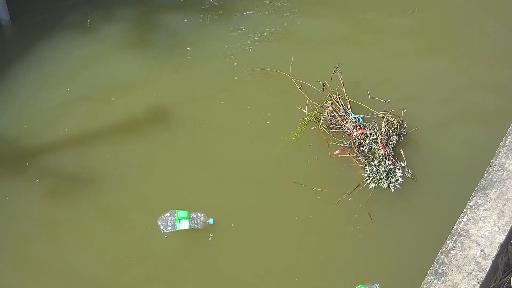plastic: (149, 202, 213, 234), (348, 277, 387, 288)
twig: (267, 51, 451, 215)
